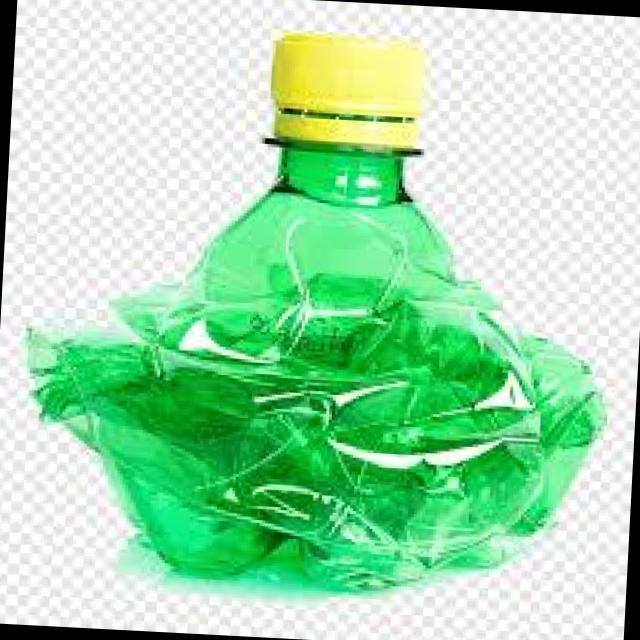defected: (19, 0, 624, 603)
